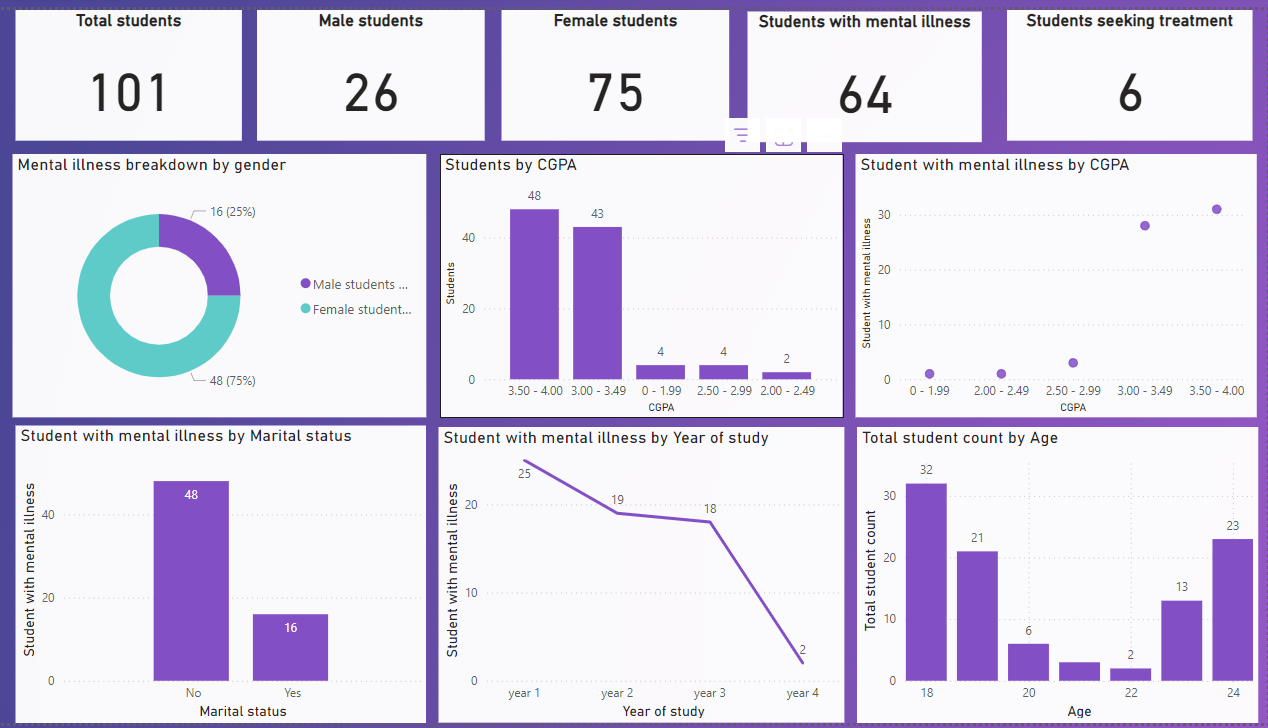

Layout of this report page (visuals, bound fields, positions):
{"tool":"powerbi","page":{"name":"Page 1","canvas":[1280,720],"ordinal":0},"visuals":[{"type":"columnChart","fields":{"Category":["Student Mental health.What is your CGPA?"],"Y":["CountNonNull(Student Mental health.Your current year of Study)"]},"box":[445.9,145.4,406.7,266.2],"z":0},{"type":"lineChart","fields":{"Category":["Student Mental health.Your current year of Study"],"Y":["Student Mental health.Student with mental illness"]},"box":[444.3,421.1,410,298.9],"z":1000},{"type":"card","title":"Total students","fields":{"Values":["Student Mental health.Total student count"]},"box":[16.3,0,228.7,132.3],"z":2000},{"type":"card","title":"Male students","fields":{"Values":["Student Mental health.Male students"]},"box":[261.3,0,230.3,132.3],"z":3000},{"type":"card","title":"Female students","fields":{"Values":["Student Mental health.Female students"]},"box":[508,0,230.3,132.3],"z":4000},{"type":"donutChart","title":"Mental illness breakdown by gender","fields":{"Y":["Student Mental health.Male students with illness","Student Mental health.Female students with mental illness"]},"box":[13.1,145.4,418.1,266.2],"z":5000},{"type":"scatterChart","fields":{"X":["Student Mental health.What is your CGPA?"],"Y":["Student Mental health.Student with mental illness"]},"box":[865.7,145.4,405.1,266.2],"z":6000},{"type":"clusteredColumnChart","fields":{"Category":["Student Mental health.Age"],"Y":["Student Mental health.Total student count"]},"box":[866,421,405,299],"z":7000},{"type":"card","title":"Students with mental illness","fields":{"Values":["Student Mental health.Student with mental illness"]},"box":[756.2,1.6,236.8,132.3],"z":8000},{"type":"card","title":"Students seeking treatment","fields":{"Values":["Student Mental health.Specialist treatment"]},"box":[1017.6,0,248.3,132.3],"z":9000},{"type":"clusteredColumnChart","fields":{"Category":["Student Mental health.Marital status"],"Y":["Student Mental health.Student with mental illness"]},"box":[16.3,419.8,414.9,300.5],"z":10000}]}

Visuals, with their boxes in screenshot pixels (x1, y1, x2, y2), scaled from the page's 1280x720 canvas onto the 1268x728 screenshot:
columnChart - Student Mental health.What is your CGPA? x CountNonNull(Student Mental health.Your current year of Study): (442, 147, 845, 416)
lineChart - Student Mental health.Your current year of Study x Student Mental health.Student with mental illness: (440, 426, 846, 727)
"Total students" card: (16, 0, 243, 134)
"Male students" card: (259, 0, 487, 134)
"Female students" card: (503, 0, 731, 134)
"Mental illness breakdown by gender" donutChart: (13, 147, 427, 416)
scatterChart - Student Mental health.What is your CGPA? x Student Mental health.Student with mental illness: (858, 147, 1259, 416)
clusteredColumnChart - Student Mental health.Age x Student Mental health.Total student count: (858, 426, 1259, 727)
"Students with mental illness" card: (749, 2, 984, 135)
"Students seeking treatment" card: (1008, 0, 1254, 134)
clusteredColumnChart - Student Mental health.Marital status x Student Mental health.Student with mental illness: (16, 424, 427, 727)
